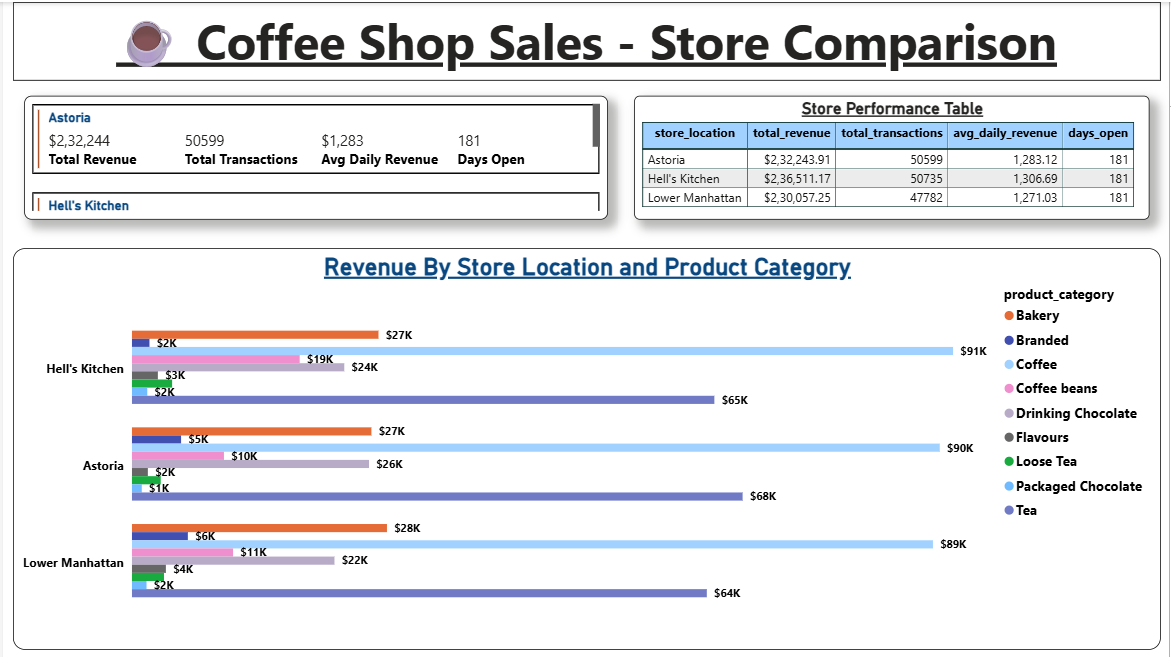

This screenshot's page, from the dashboard's own definition file:
{"tool":"powerbi","page":{"name":"STORE COMPARISON","canvas":[1280,720],"ordinal":3},"visuals":[{"type":"textbox","box":[11,0,1259.7,86.4],"z":0},{"type":"multiRowCard","fields":{"Values":["projects store_metrics.store_location","projects store_metrics.total_revenue","projects store_metrics.total_transactions","projects store_metrics.avg_daily_revenue","projects store_metrics.days_open"]},"box":[23.3,102.9,640.8,135.8],"z":1000},{"type":"tableEx","title":"Store Performance Table","fields":{"Values":["projects store_metrics.store_location","projects store_metrics.total_revenue","projects store_metrics.total_transactions","projects store_metrics.avg_daily_revenue","projects store_metrics.days_open"]},"box":[693,102.9,565.4,135.8],"z":2000},{"type":"clusteredBarChart","title":"Revenue By Store Location and Product Category","fields":{"Category":["projects store_metrics.store_location"],"Series":["projects coffee_shop_sales.product_category"],"Y":["Sum(projects coffee_shop_sales.revenue)"]},"box":[11,270.3,1259.7,440.5],"z":2001}]}

Visuals, with their boxes in screenshot pixels (x1, y1, x2, y2), scaled from the page's 1280x720 canvas onto the 1171x657 screenshot:
textbox: x1=10 y1=0 x2=1162 y2=79
multiRowCard - projects store_metrics.store_location x projects store_metrics.total_revenue: x1=21 y1=94 x2=608 y2=218
"Store Performance Table" tableEx: x1=634 y1=94 x2=1151 y2=218
"Revenue By Store Location and Product Category" clusteredBarChart: x1=10 y1=247 x2=1162 y2=649
